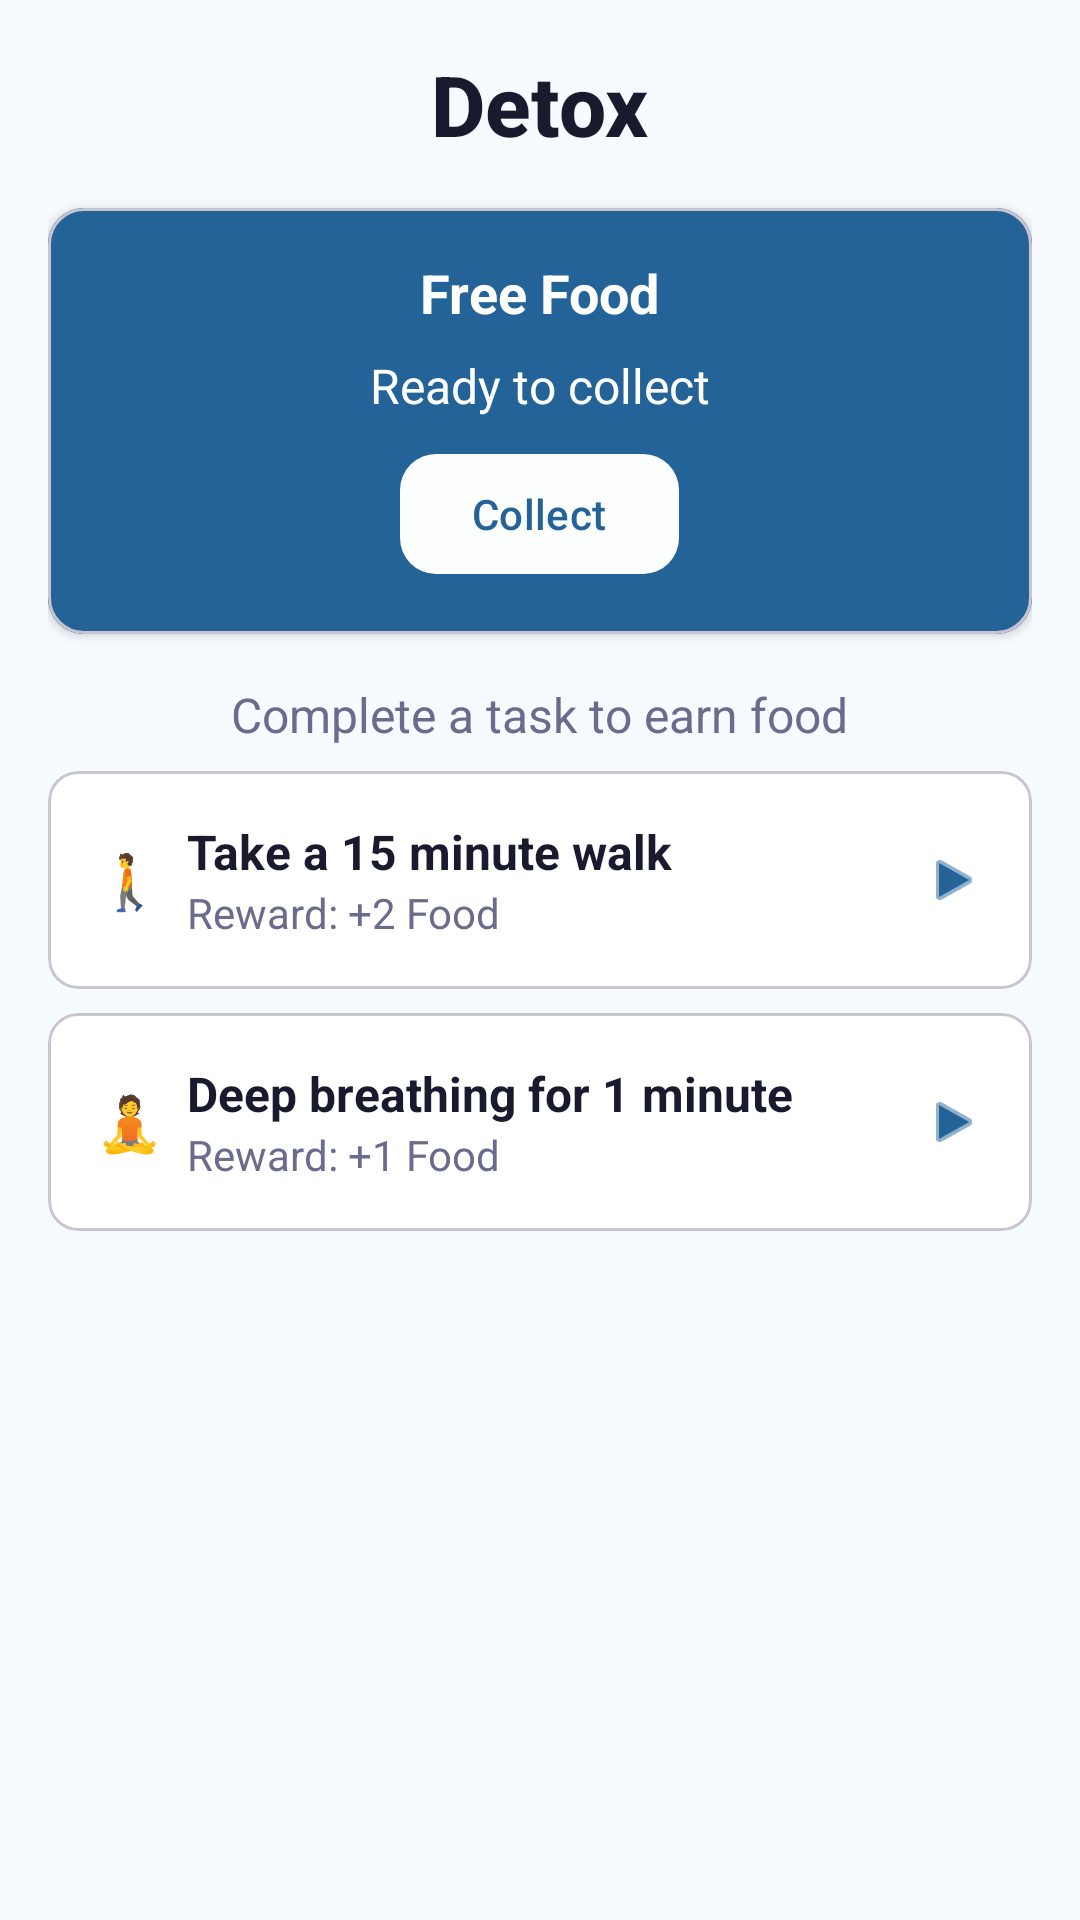

Where to tap for icons on this 1080*1920 app screen, as (x,y):
play: (954,880), (954,1122)
